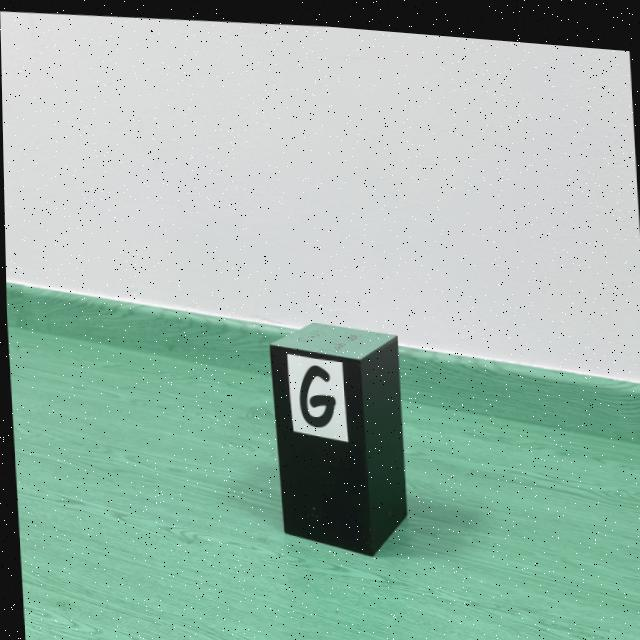G: (297, 360, 334, 422)
